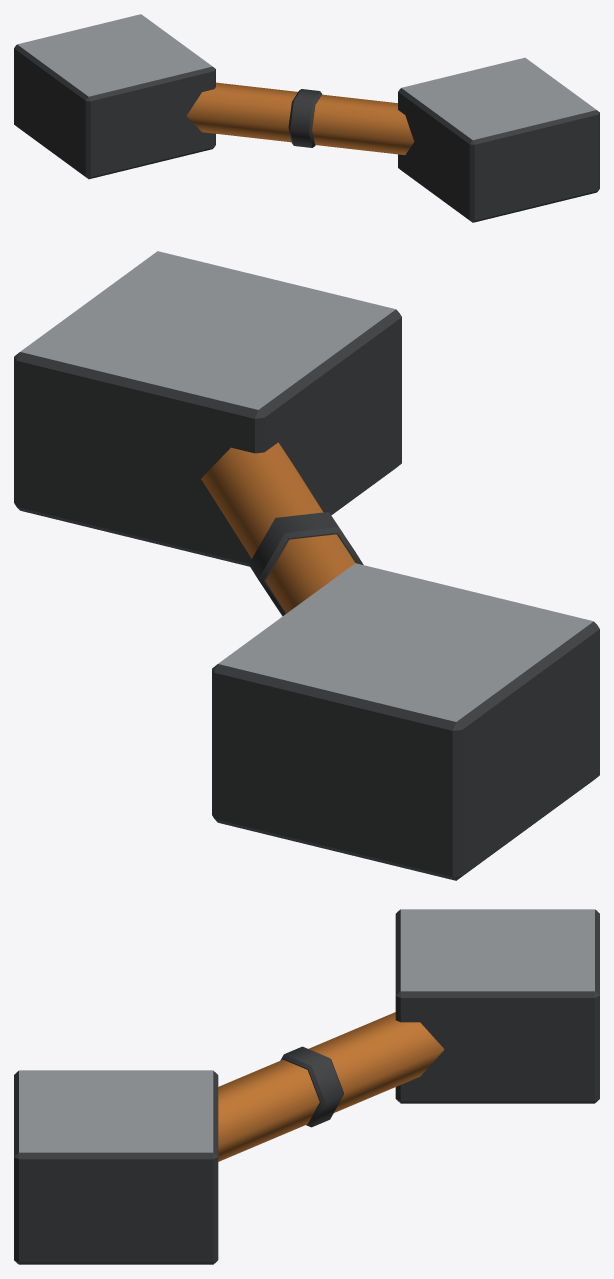
Rendered from R4C_ROD_DIAG_2D_SHORT_LOD1.fbx.
The picture shows the model from 3 angles, top to bottom: view 1: azimuth 30°, elevation 25°; view 2: azimuth 150°, elevation 25°; view 3: azimuth 270°, elevation 25°; orthographic projection. The views are drawn at different scales.
Parts seen in each view (by area): view 1: R4C_ROD_DIAG_2D_SHORT_LOD1; view 2: R4C_ROD_DIAG_2D_SHORT_LOD1; view 3: R4C_ROD_DIAG_2D_SHORT_LOD1.
Boxes of the visible parts, left/top/right/bottom form: R4C_ROD_DIAG_2D_SHORT_LOD1: left=14, top=14, right=599, bottom=222; R4C_ROD_DIAG_2D_SHORT_LOD1: left=14, top=251, right=599, bottom=880; R4C_ROD_DIAG_2D_SHORT_LOD1: left=14, top=909, right=599, bottom=1264.
Bounding box in the file's own units: 1.07 × 0.226 × 1.07.
